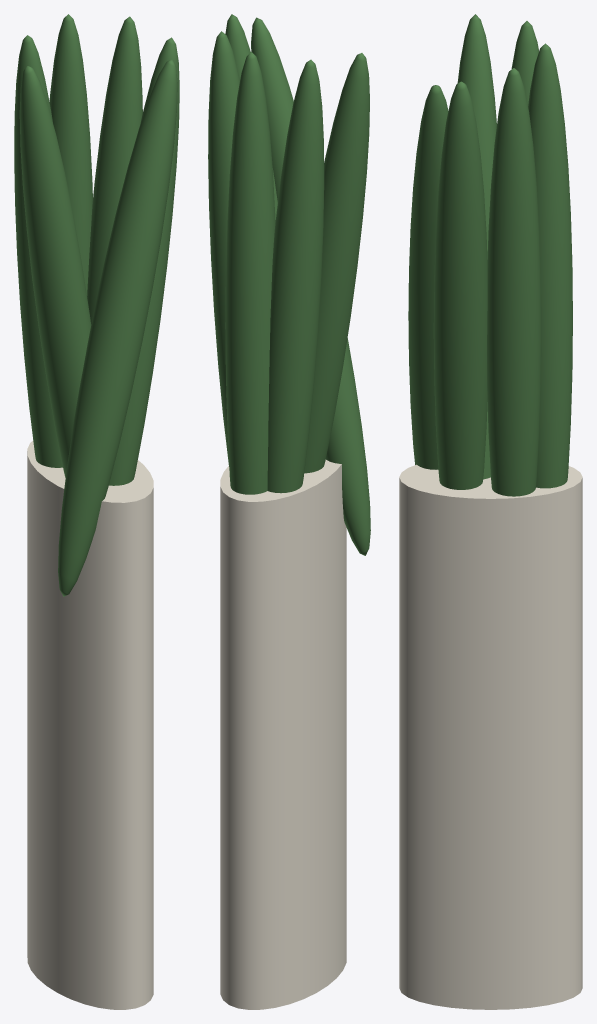
The model's file is wp-poireau.glb.
3 renders of one model, left to right at view 1: azimuth 30°, elevation 25°; view 2: azimuth 150°, elevation 25°; view 3: azimuth 270°, elevation 25°, orthographic.
Visible parts, largest first — view 1: wp-poireau; view 2: wp-poireau; view 3: wp-poireau.
Part boxes in pixels (x1,y1,x2,y2): wp-poireau: [14, 14, 179, 1009]; wp-poireau: [208, 14, 370, 1009]; wp-poireau: [399, 14, 582, 1009].
Size of the model in its own units: 0.066 by 0.3989 by 0.07.
